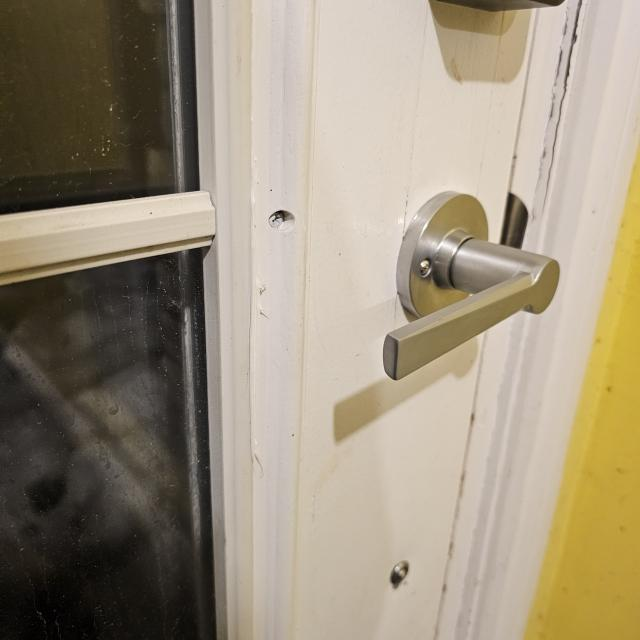door-handle: (384, 191, 559, 380)
